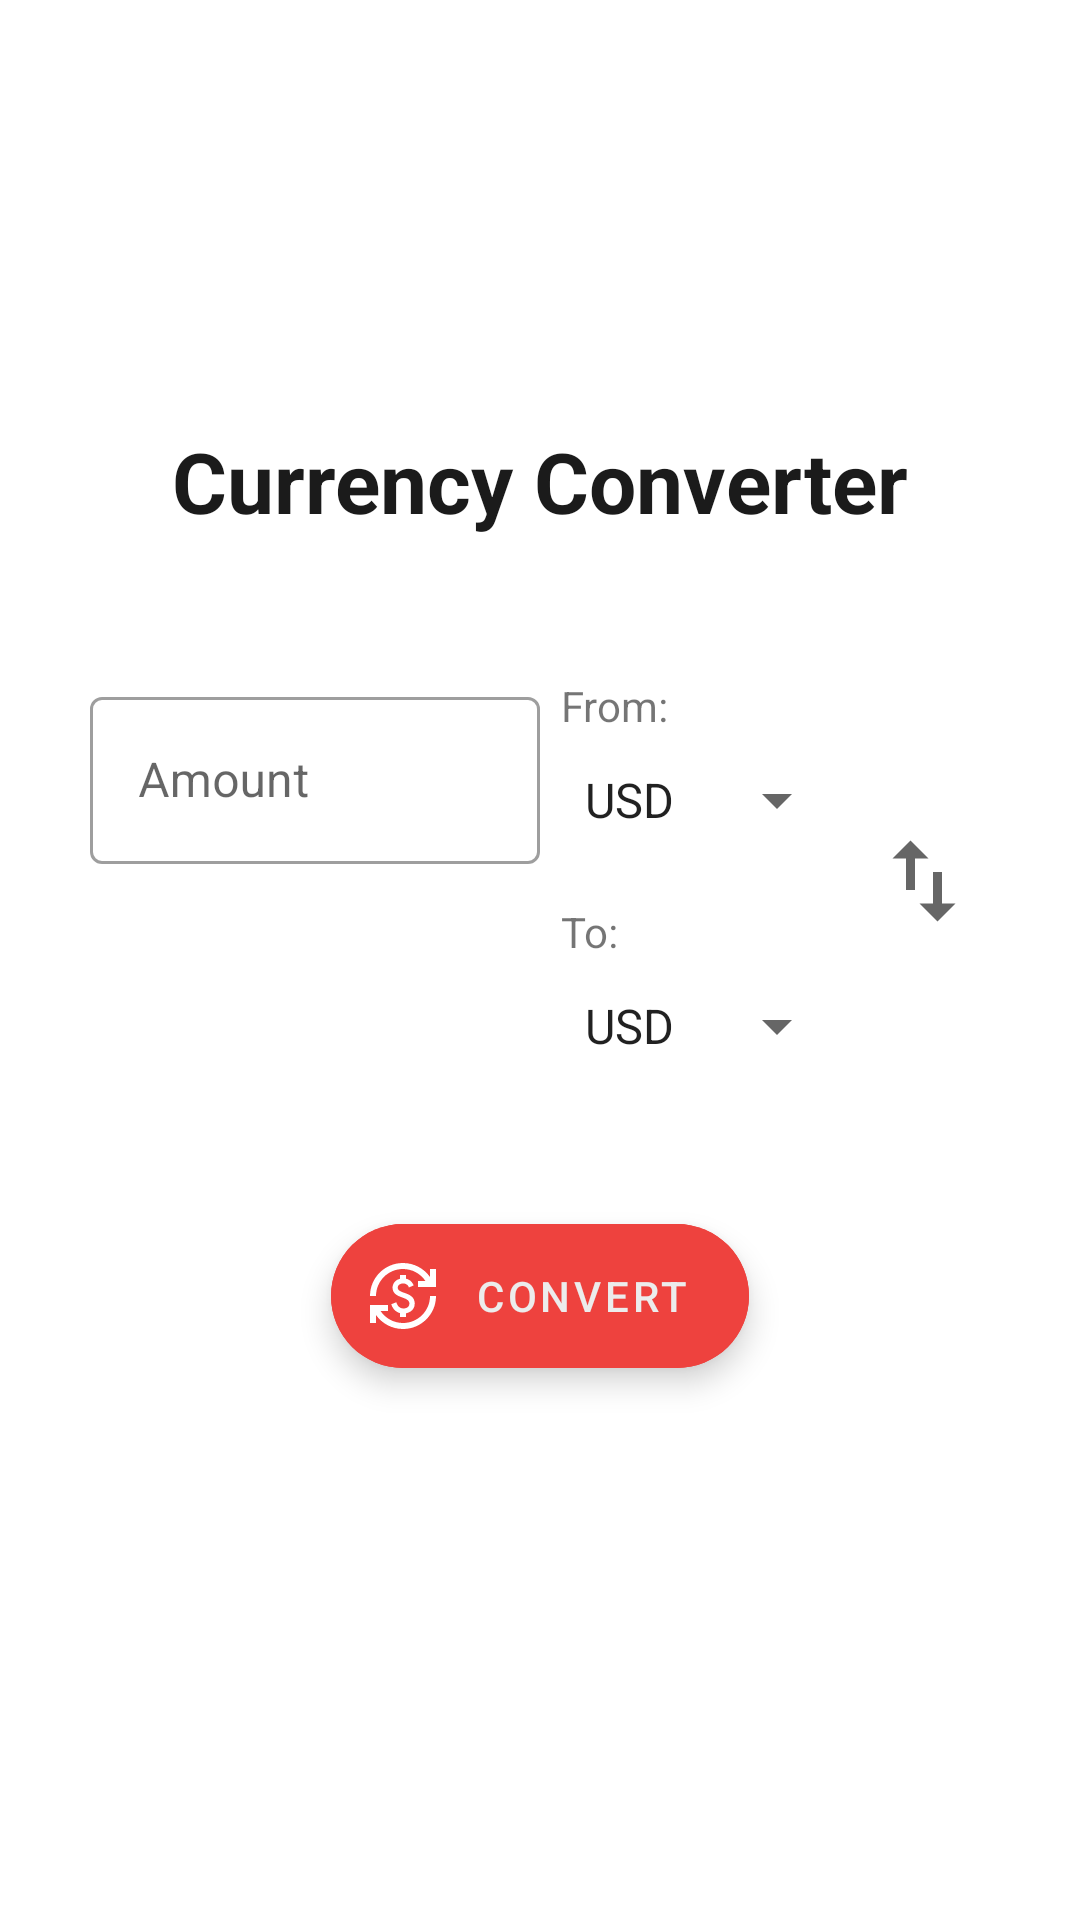

Screen size 1080px×1920px. Icon name, then its center in pixels as point (x, y):
swap: point (924, 881)
